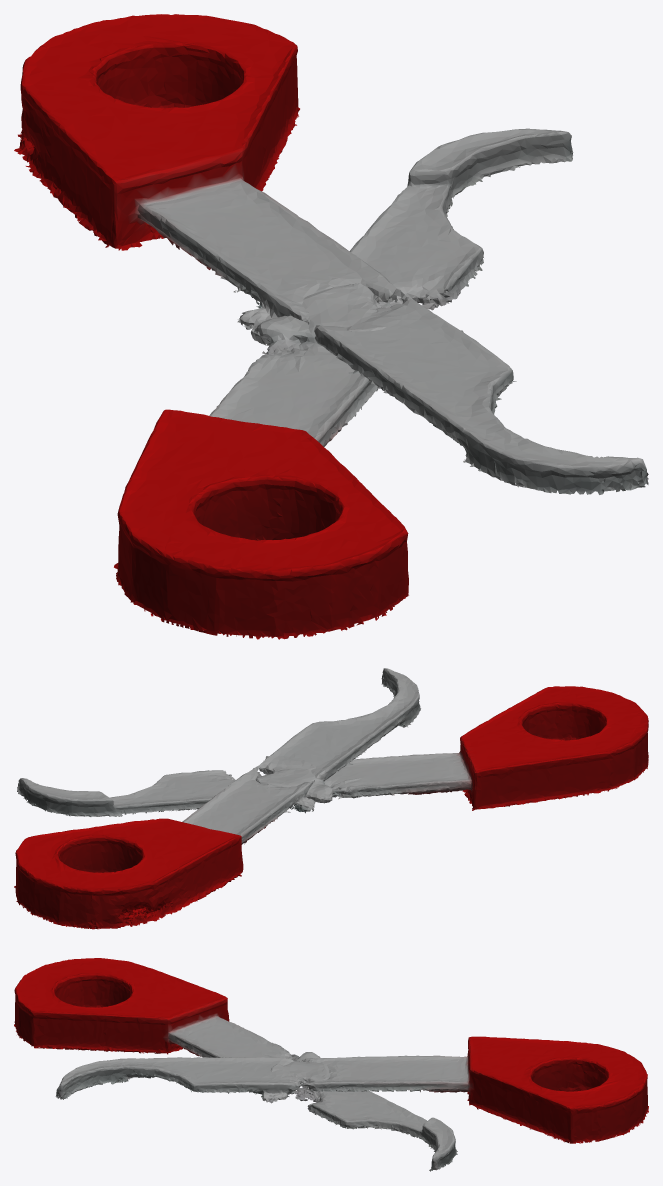
The model's file is scissor_11100.glb.
3 renders of one model, top to bottom at view 1: azimuth 30°, elevation 25°; view 2: azimuth 150°, elevation 25°; view 3: azimuth 270°, elevation 25°, orthographic. The views are drawn at different scales.
Visible parts, largest first — view 1: scissor_11100_start_1, scissor_11100_start_0; view 2: scissor_11100_start_1, scissor_11100_start_0; view 3: scissor_11100_start_1, scissor_11100_start_0.
Part boxes in pixels (x1,y1,x2,y2): scissor_11100_start_1: (14,14,648,494); scissor_11100_start_0: (114,128,573,639); scissor_11100_start_1: (14,668,420,929); scissor_11100_start_0: (17,686,648,816); scissor_11100_start_1: (55,1036,648,1143); scissor_11100_start_0: (14,958,457,1171).
Size of the model in its own units: 1.37 by 0.144 by 1.89.
